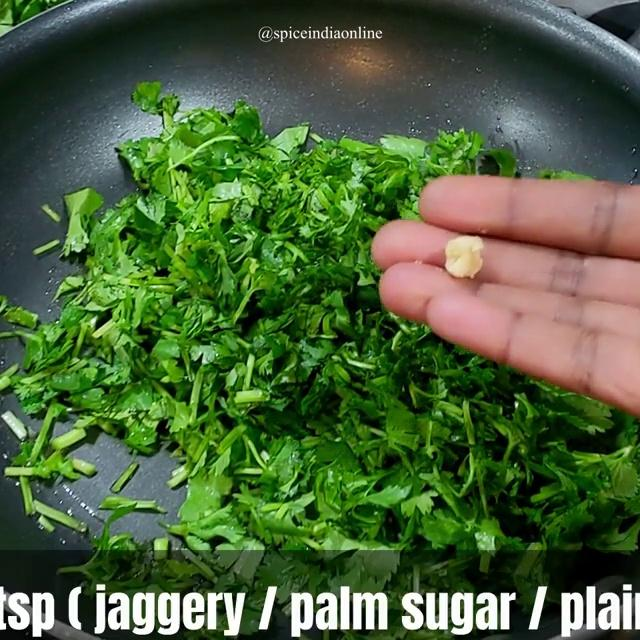cilantro: (64, 100, 362, 516)
